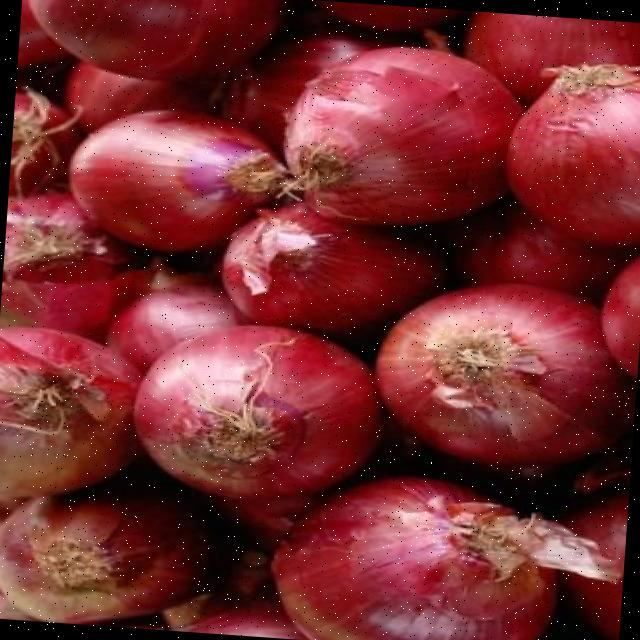Onion: (273, 475, 620, 640), (376, 281, 635, 464), (133, 323, 382, 498), (285, 44, 522, 224), (70, 107, 287, 248), (222, 201, 445, 334), (0, 486, 212, 622), (508, 60, 640, 244), (0, 326, 139, 495), (30, 0, 282, 78), (465, 10, 640, 104), (107, 284, 246, 369), (603, 256, 640, 376)
